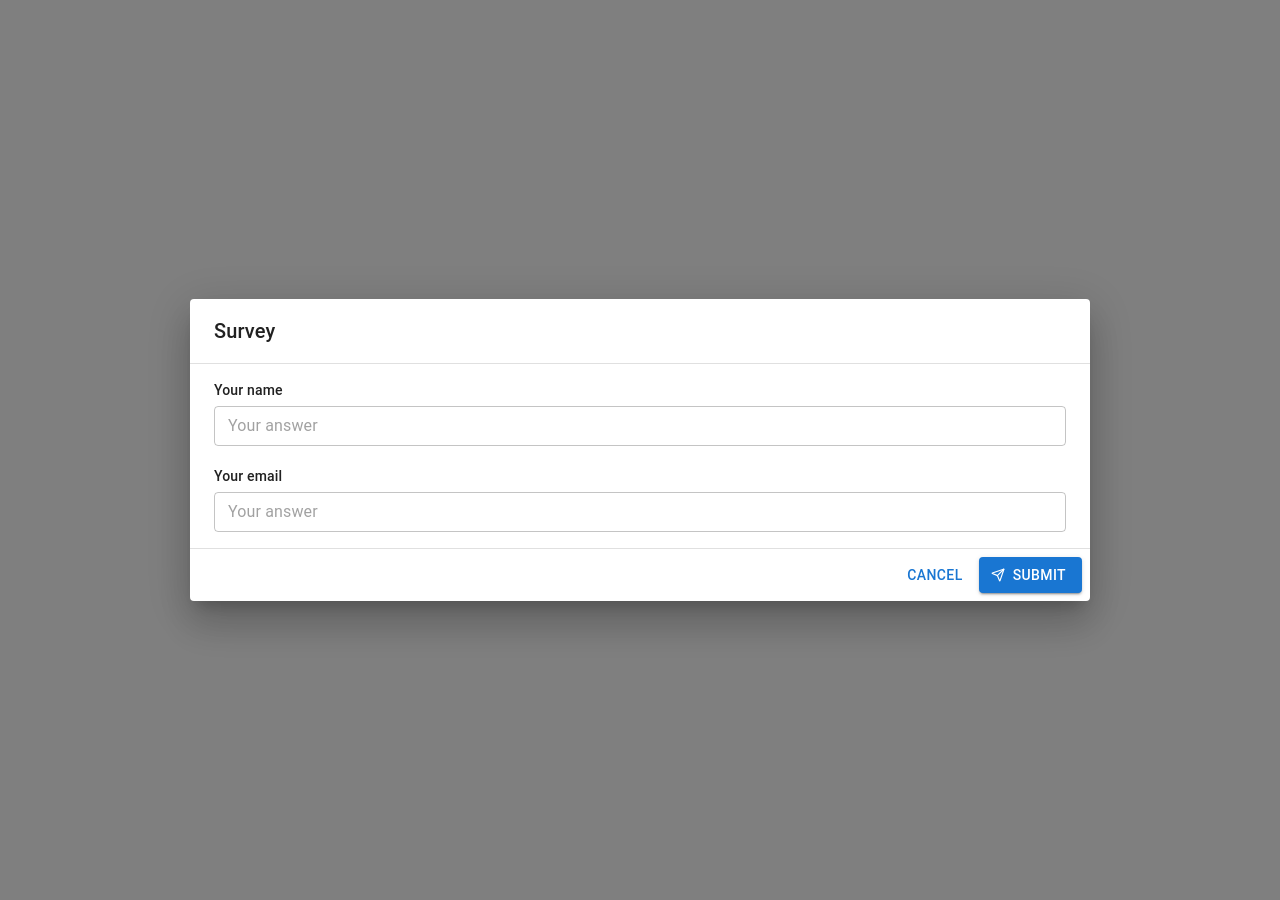
Test: FillFormDialog › shows success message after successful submit
Click the button "Submit": (1030, 575) [979,557,1082,593]
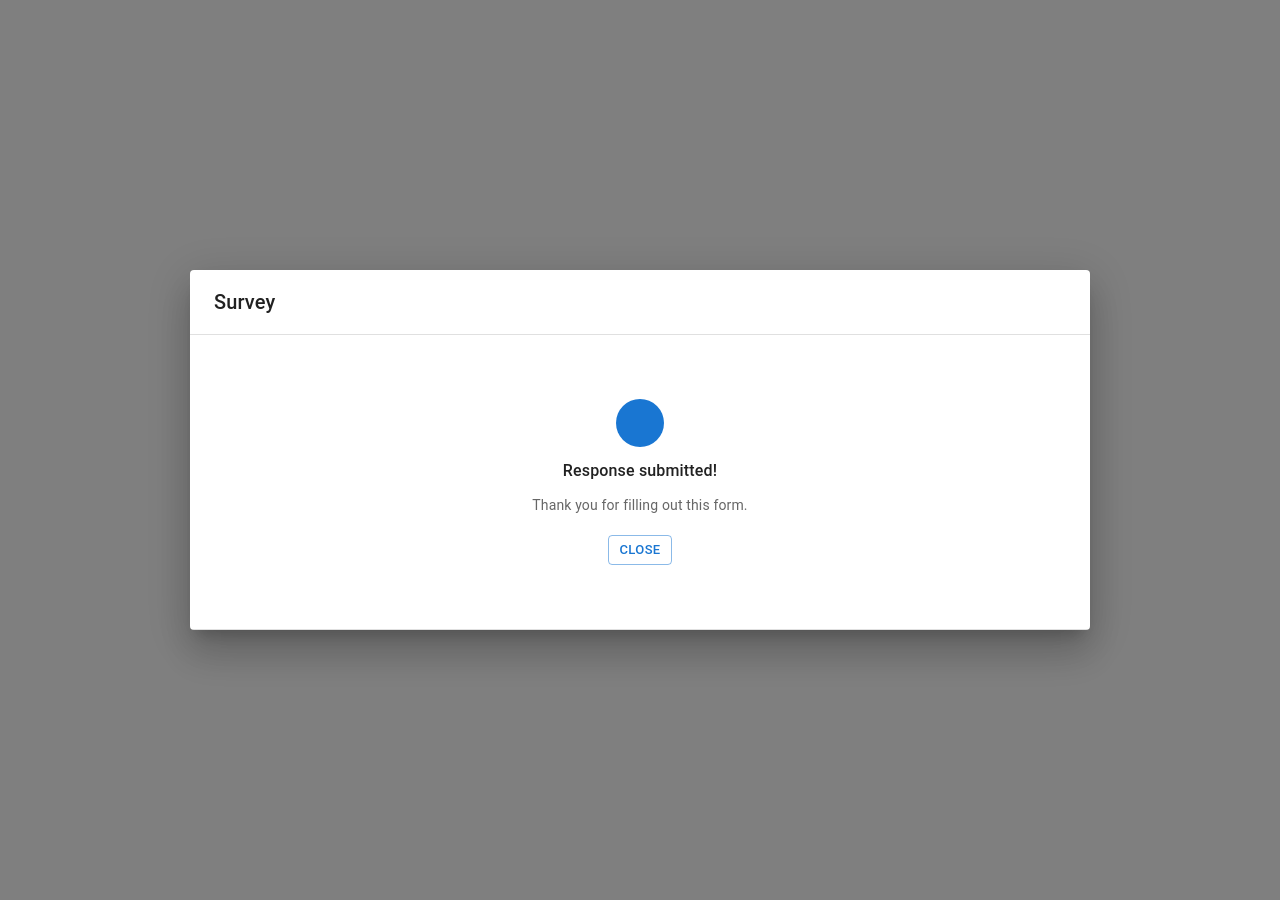
Check: the text "Response submitted!" is shown, box [563,459,717,483]
